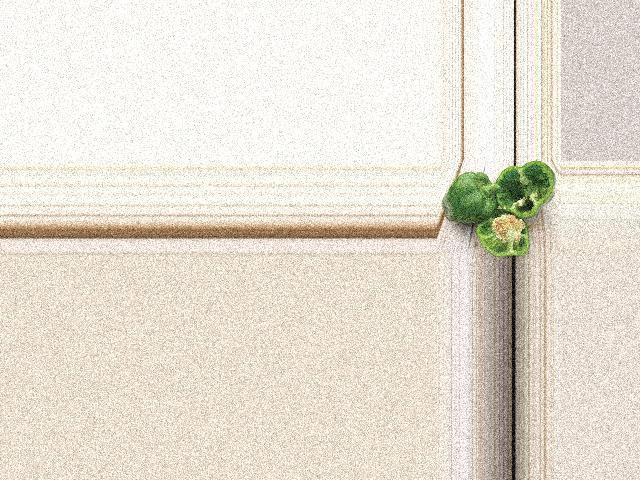bell_pepper: (472, 210, 540, 256)
